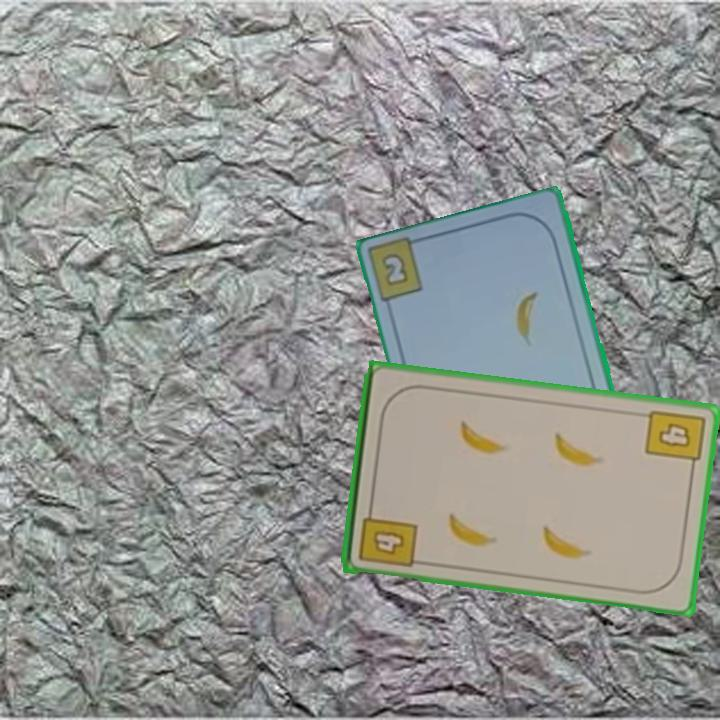2b: (378, 249, 412, 290)
4b: (641, 405, 708, 475), (354, 501, 420, 570)
